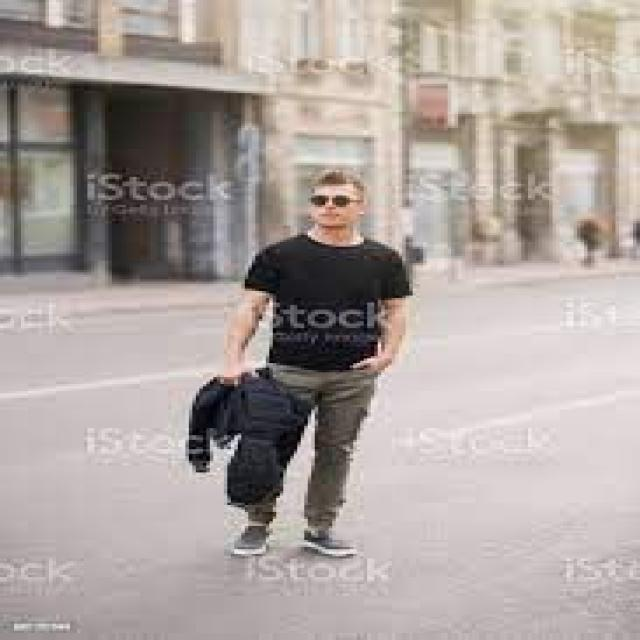jovem: (242, 168, 407, 558)
